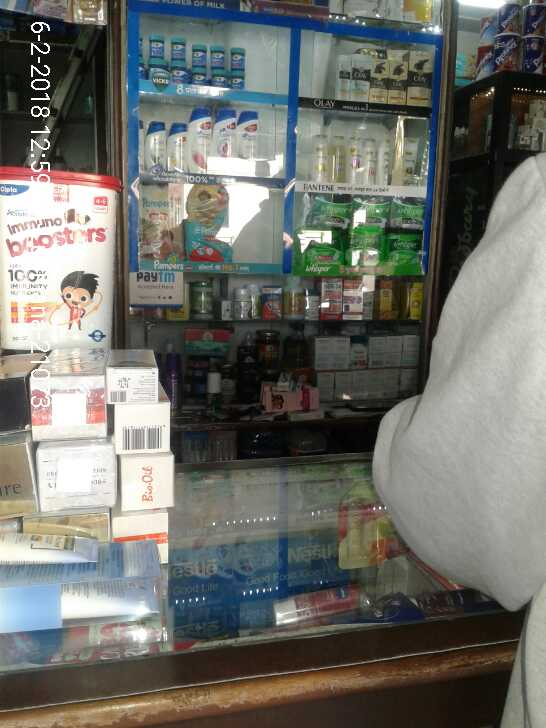vicks: (134, 34, 254, 85)
